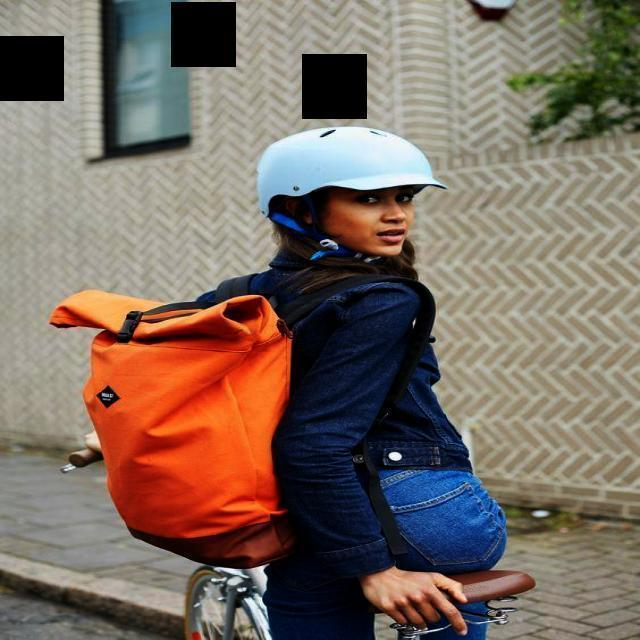helmet: (252, 122, 446, 270)
